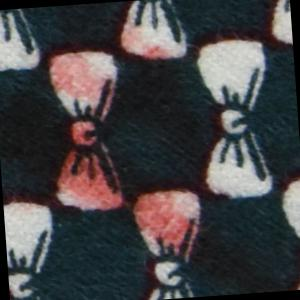Stain: (1, 1, 286, 300)
